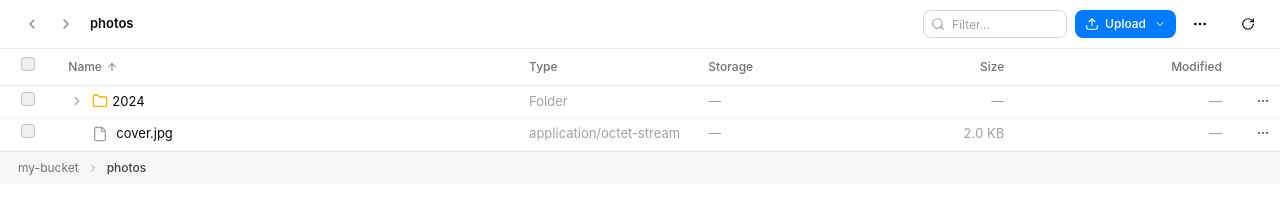
Test: ObjectBrowser folder disclosure triangle › renders an Empty placeholder for a folder with no children
// photos/ contains a 2024/ folder — expand it to see the empty marker.
What coordinates should you click on to do the following:
click the button with test id "disclosure-photos/2024/"
I would click on:
 (77, 101)
Its box is [68,92,86,110].
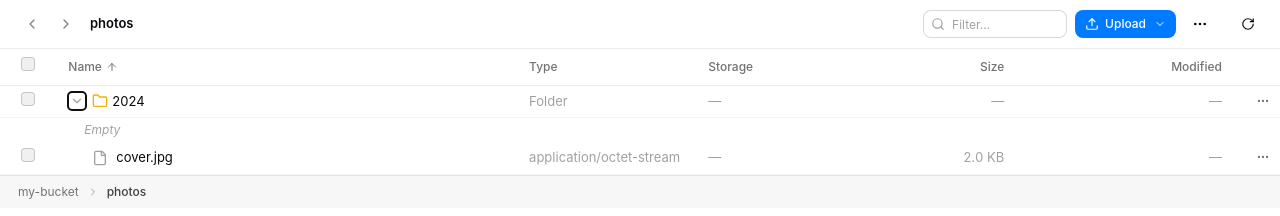
Expected: the text "Empty" is shown, [84,122,120,137]
